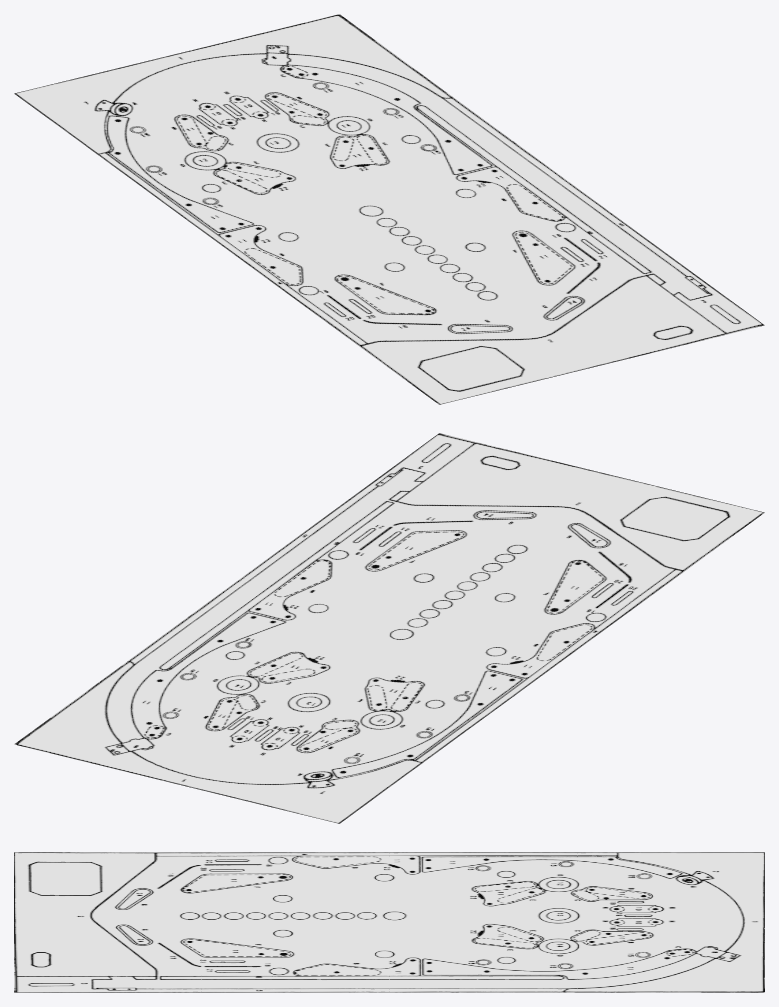
File: Playfield.FBX
The picture shows the model from 3 angles, top to bottom: view 1: azimuth 30°, elevation 25°; view 2: azimuth 150°, elevation 25°; view 3: azimuth 270°, elevation 25°; orthographic projection. The views are drawn at different scales.
Visible parts, largest first — view 1: Plane001; view 2: Plane001; view 3: Plane001.
Boxes of the visible parts, box(x1,y1,x2,y2) form: Plane001: box(14, 14, 764, 404); Plane001: box(14, 433, 764, 823); Plane001: box(14, 852, 764, 992).
Size of the model in its own units: 20.28 by 2.81e-15 by 45.87.
